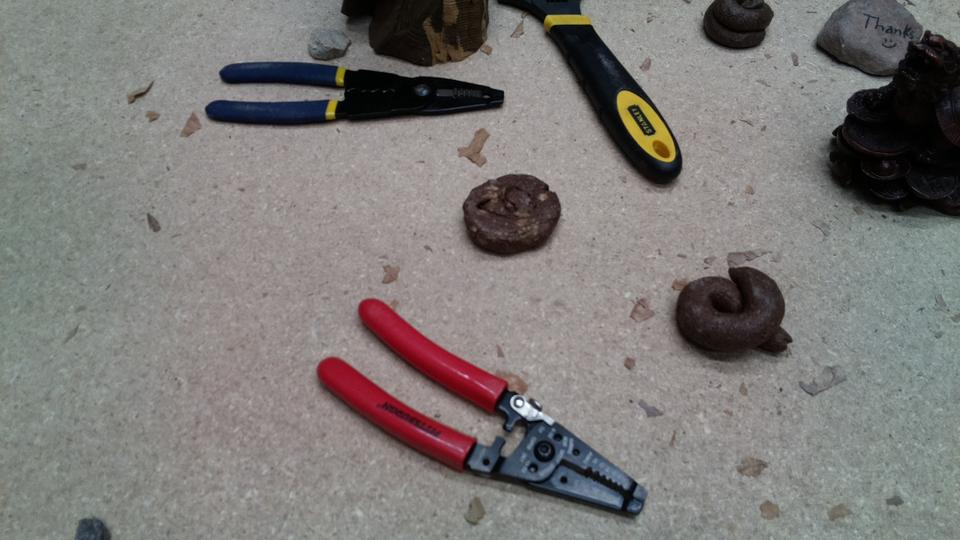poop: (672, 259, 794, 367), (459, 170, 566, 259), (700, 1, 777, 59)
